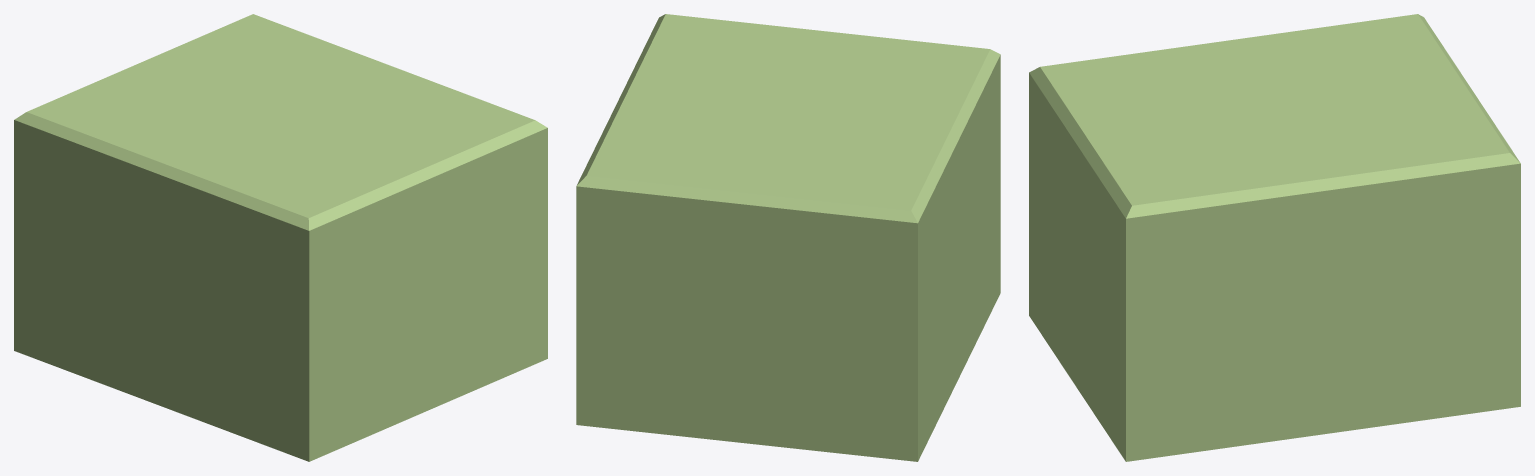
File: Platform_AfterForest_Bell_Cube_1_.fbx
3 views of the same model, side by side, from view 1: azimuth 30°, elevation 25°; view 2: azimuth 150°, elevation 25°; view 3: azimuth 270°, elevation 25° (orthographic). The views are drawn at different scales.
Visible parts, largest first — view 1: Platform_AfterForest_Bell_Cube_1_; view 2: Platform_AfterForest_Bell_Cube_1_; view 3: Platform_AfterForest_Bell_Cube_1_.
Part boxes in pixels (bbox=[...]): Platform_AfterForest_Bell_Cube_1_: bbox=[14, 14, 547, 461]; Platform_AfterForest_Bell_Cube_1_: bbox=[576, 14, 1000, 461]; Platform_AfterForest_Bell_Cube_1_: bbox=[1029, 14, 1520, 461].
Size of the model in its own units: 34.38 by 20 by 35.47.
